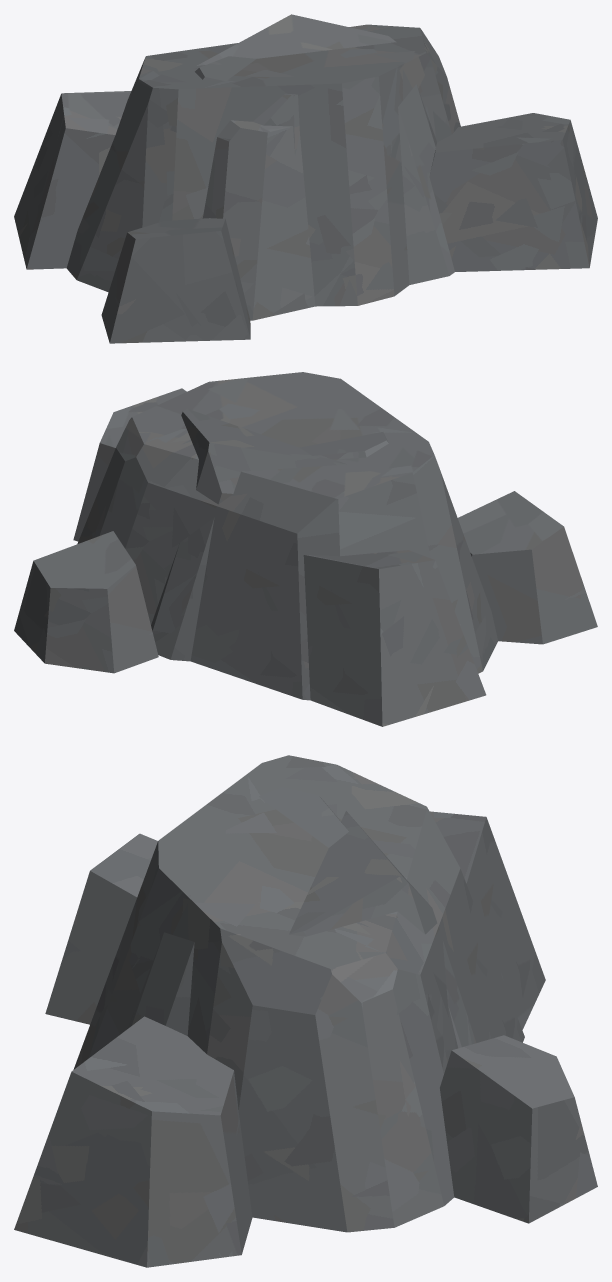
File: boulderlarge.gltf
3 renders of one model, top to bottom at view 1: azimuth 30°, elevation 25°; view 2: azimuth 150°, elevation 25°; view 3: azimuth 270°, elevation 25°, orthographic. The views are drawn at different scales.
Visible parts, largest first — view 1: lod0; view 2: lod0; view 3: lod0.
Boxes of the visible parts, x1,y1,x2,y2 form: lod0: (14, 14, 597, 343); lod0: (14, 372, 597, 726); lod0: (14, 755, 597, 1267).
Size of what is drawn, in the model's own units: 3.7 by 1.38 by 2.8.
Materials: 1 (1 with a texture image).
